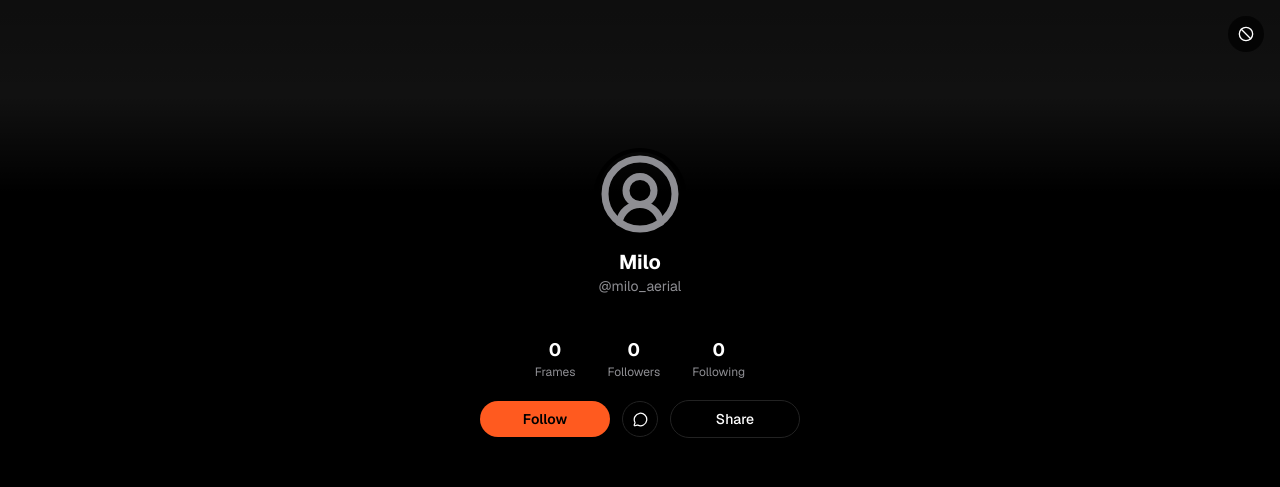
Test case: ProfileHeader — Message button › shows an error and does not navigate when the thread can't be created (e.g. a blocked pair)
Click the button named "Message @milo_aerial": [640, 419] box [622,401,658,437]
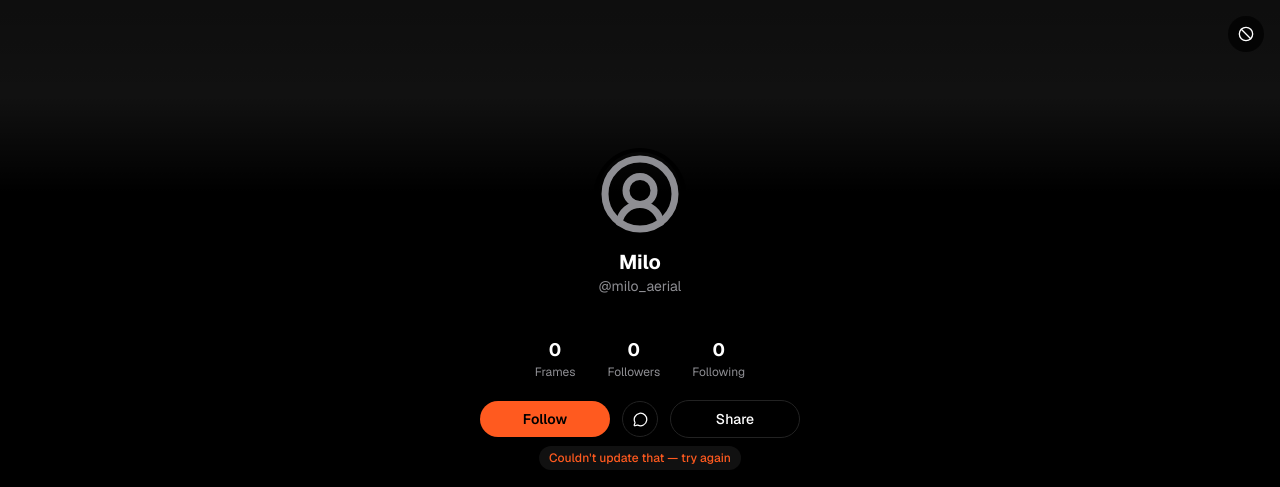
Expected: the text "Couldn't update that — try again" is shown, [539,446,741,470]
